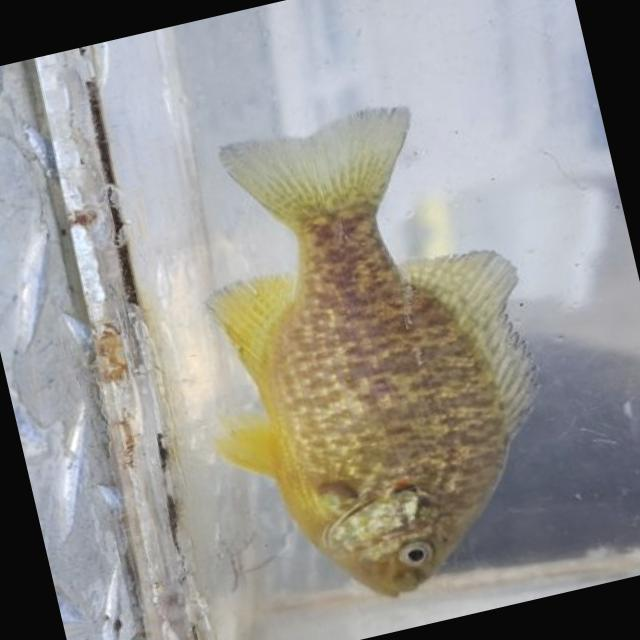Gunes Levregi: (133, 55, 603, 640)
